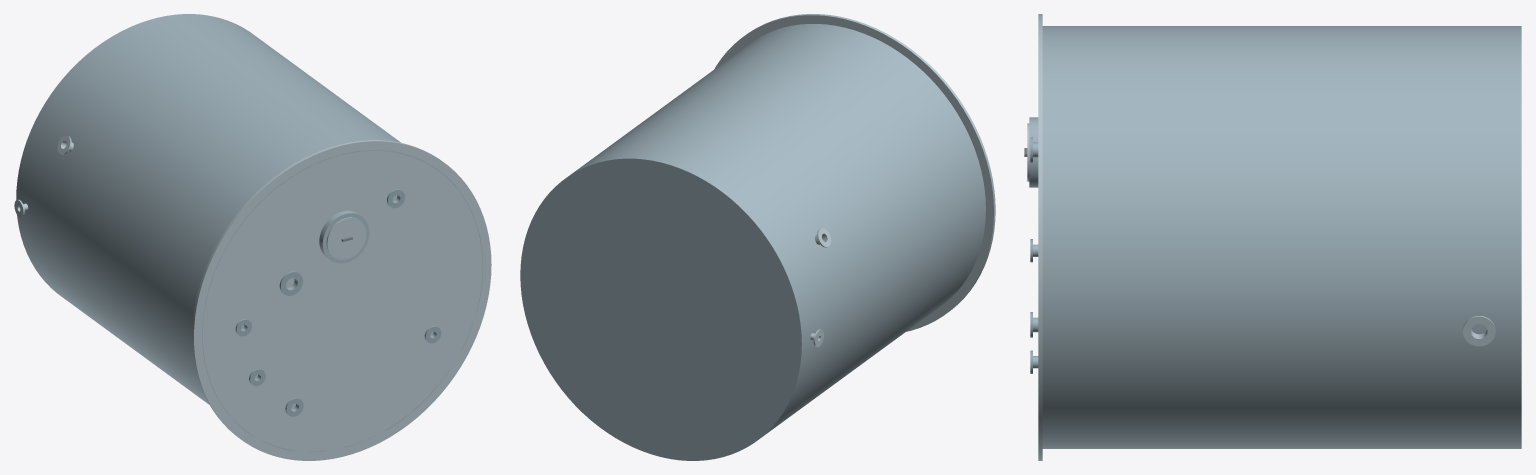
The picture shows the model from 3 angles, left to right: view 1: azimuth 30°, elevation 25°; view 2: azimuth 150°, elevation 25°; view 3: azimuth 270°, elevation 25°; orthographic projection. The views are drawn at different scales.
Parts seen in each view (by area): view 1: 本体_筒壳, 槽盖_盖板, 接口_人孔盖, 接口_人孔座圈; view 2: 本体_筒壳, 本体_平底, 槽盖_盖板; view 3: 本体_筒壳, 槽盖_盖板, 接口_东侧法兰, 接口_人孔座圈.
Boxes of the visible parts, <box> form: 本体_筒壳: <box>16,14,483,452</box>; 槽盖_盖板: <box>192,140,491,460</box>; 接口_人孔盖: <box>326,217,366,259</box>; 接口_人孔座圈: <box>319,210,369,263</box>; 本体_筒壳: <box>520,24,985,460</box>; 本体_平底: <box>521,159,800,459</box>; 槽盖_盖板: <box>714,14,995,331</box>; 本体_筒壳: <box>1042,26,1521,448</box>; 槽盖_盖板: <box>1038,14,1042,460</box>; 接口_东侧法兰: <box>1463,316,1495,346</box>; 接口_人孔座圈: <box>1029,117,1038,187</box>.
Bounding box in the file's own units: 3.7 × 3.7 × 4.11.
